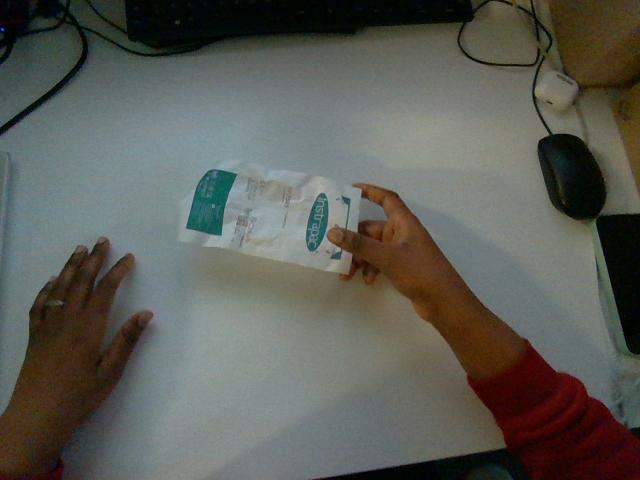gallipot: (178, 160, 360, 272)
